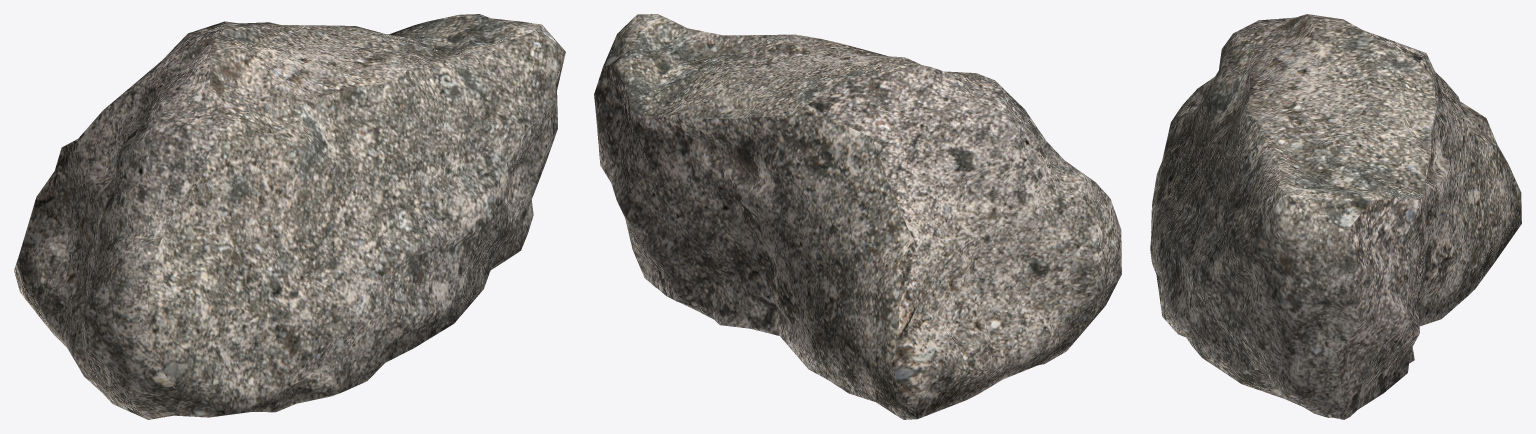
The model's file is model_rock.fbx.
3 views of the same model, side by side, from view 1: azimuth 30°, elevation 25°; view 2: azimuth 150°, elevation 25°; view 3: azimuth 270°, elevation 25° (orthographic). The views are drawn at different scales.
Visible parts, largest first — view 1: rock; view 2: rock; view 3: rock.
Boxes of the visible parts, bbox=[...] form: rock: bbox=[14, 14, 565, 419]; rock: bbox=[594, 14, 1121, 419]; rock: bbox=[1150, 14, 1521, 419].
Size of the model in its own units: 10.03 by 5.88 by 6.75.
Materials: 1 (1 with a texture image).
